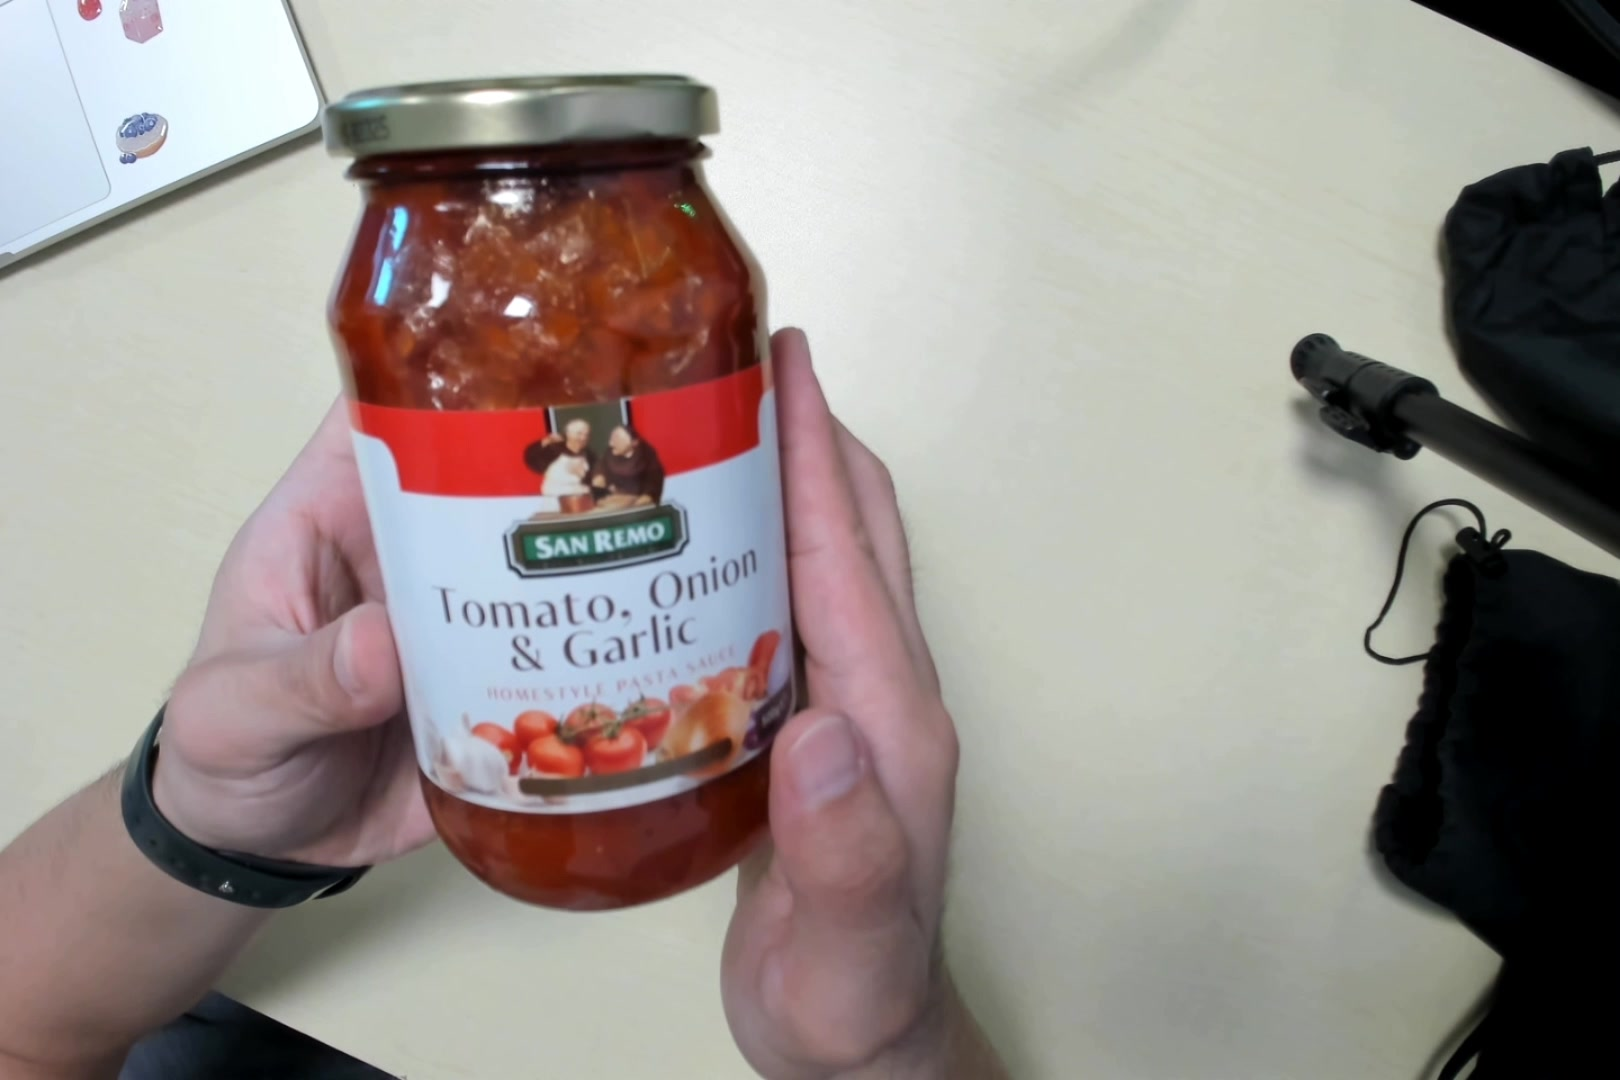PastaSauce_500-599g_NonHalal_NonHealthy: (324, 86, 806, 908)
